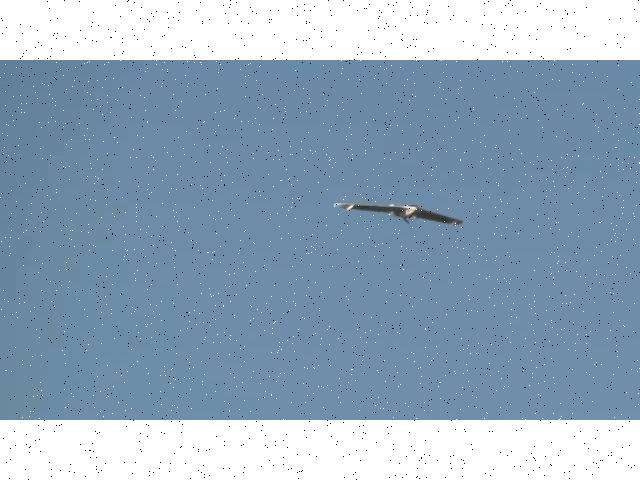Anti-Drone: (320, 196, 470, 235)
